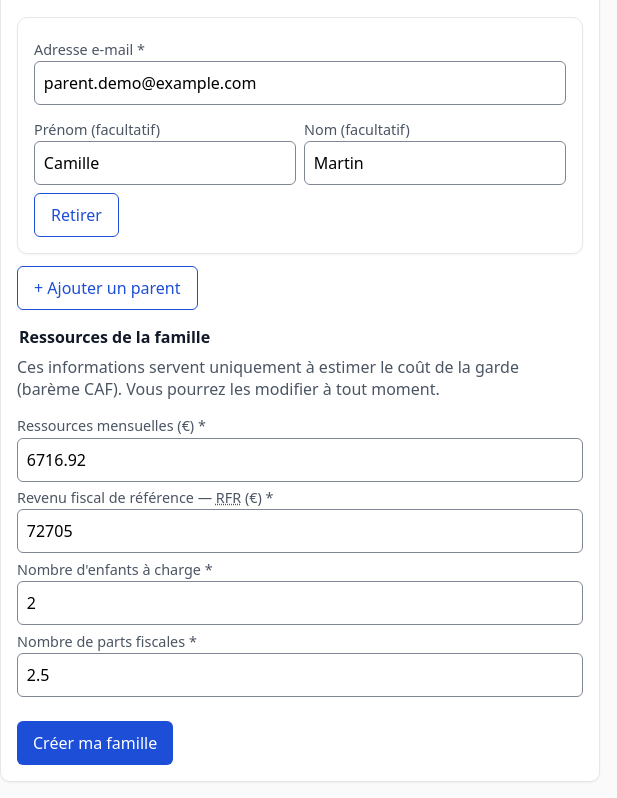
Test: FoyerFormPage › lie l'erreur de nbEnfantsACharge via aria-describedby → id du message
(page scrolled)
Click the button "Créer ma famille": (95, 743) [17, 721, 173, 765]
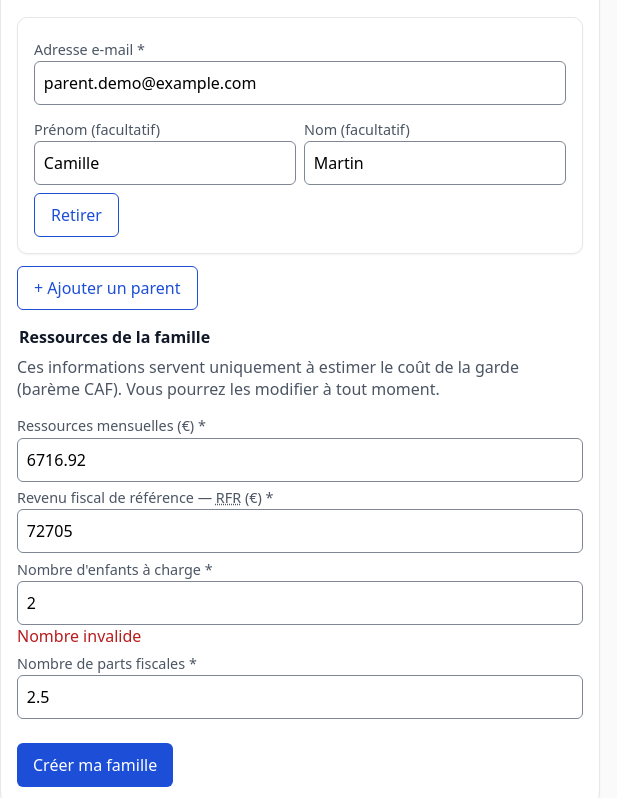
Expected: the message "Nombre invalide" is shown, [17, 625, 141, 647]
